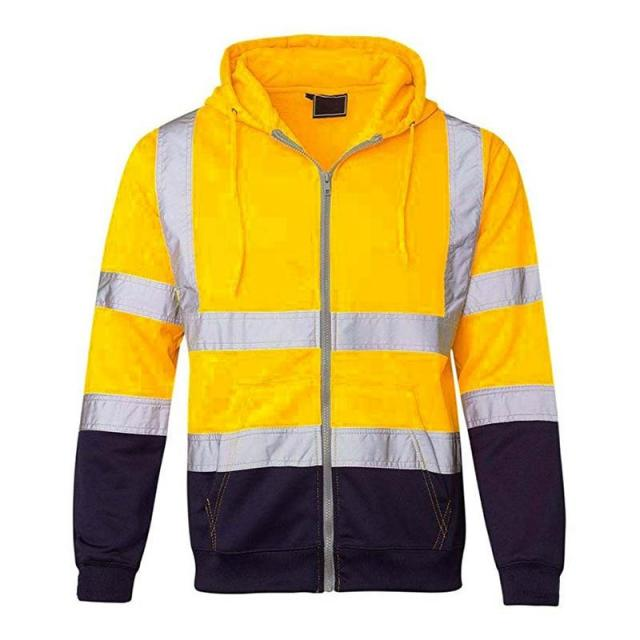Reflective-Jacket: (70, 31, 586, 622)
